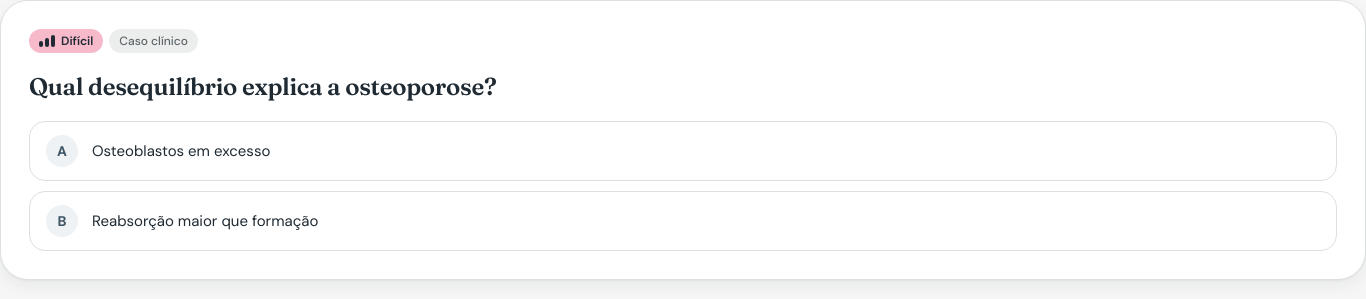
Test: QuestionCard › alternativas são rádios dentro de um radiogroup
The image size is (1366, 299).
expect the element named "Alternativas" is shown: met, box [29,121,1337,251]
Click the radio button labelled "B Reabsorção maior que formação". click: click(62, 221)
box: [29,191,1337,251]
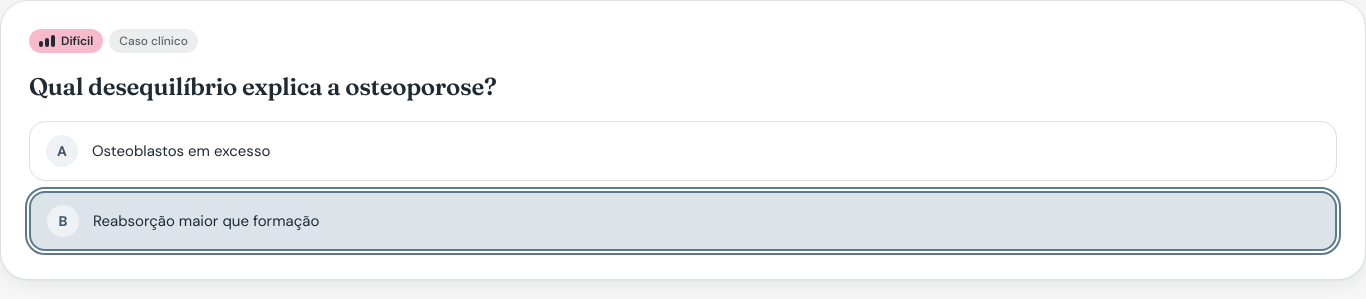
expect the radio button labelled "B Reabsorção maior que formação" is checked: met, box [29,191,1337,251]
